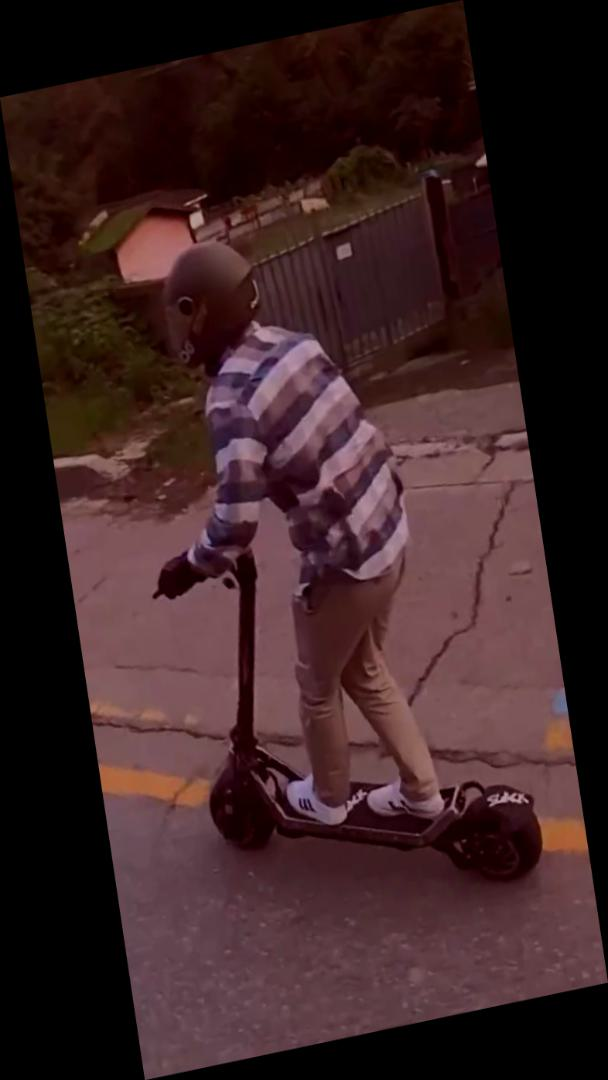helmet: (102, 187, 552, 946)
